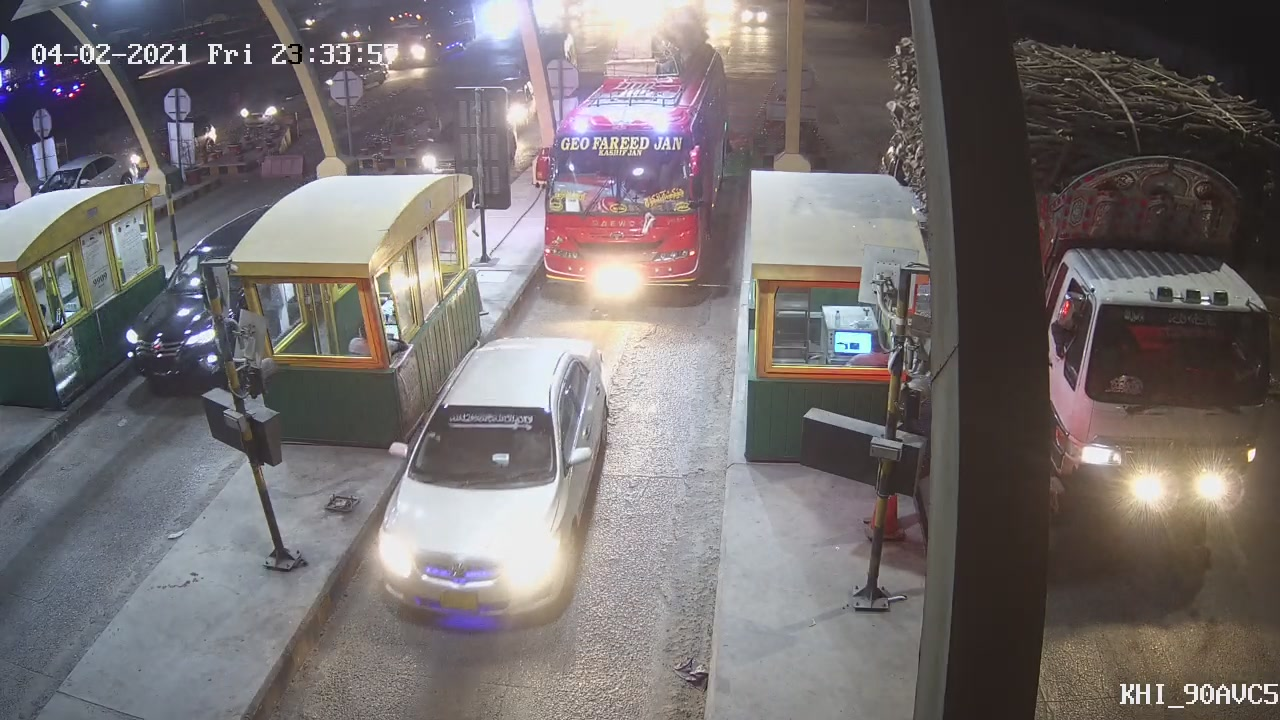F3: (531, 53, 727, 289)
F6: (369, 335, 607, 640)
